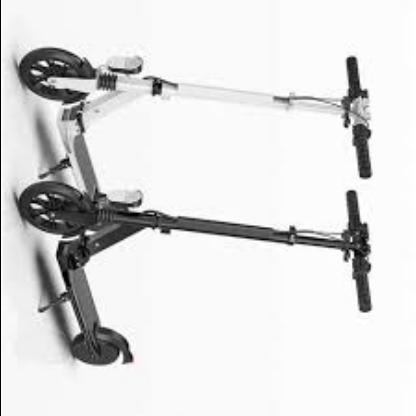bike: (16, 45, 384, 369)
